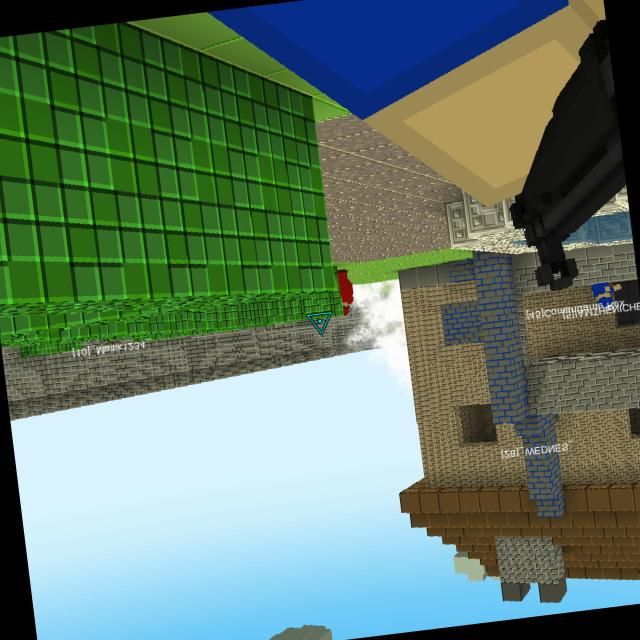enemy: (334, 268, 355, 318)
